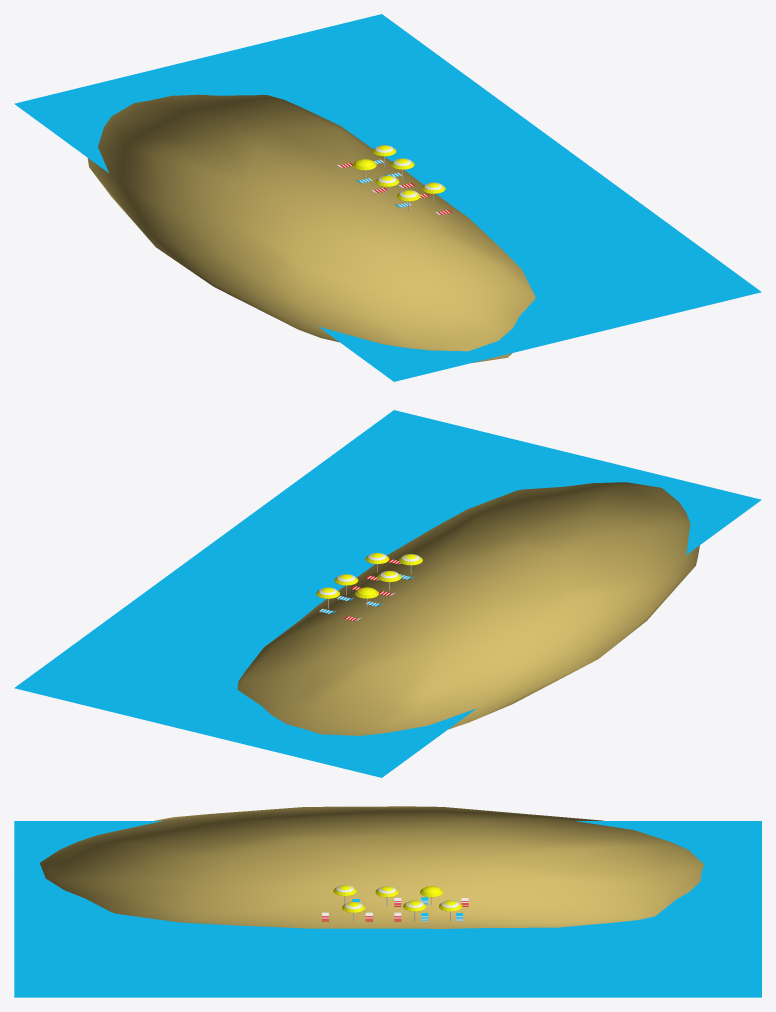
The model's file is Beach.obj.
The picture shows the model from 3 angles, top to bottom: view 1: azimuth 30°, elevation 25°; view 2: azimuth 150°, elevation 25°; view 3: azimuth 270°, elevation 25°; orthographic projection.
Visible parts, largest first — view 1: Plane006, Sphere002; view 2: Plane006, Sphere002; view 3: Plane006, Sphere002.
Part boxes in pixels (left/top/right/bottom): Plane006: left=14, top=14, right=761, bottom=381; Sphere002: left=87, top=94, right=535, bottom=362; Plane006: left=14, top=410, right=761, bottom=777; Sphere002: left=237, top=482, right=699, bottom=735; Plane006: left=14, top=821, right=761, bottom=997; Sphere002: left=40, top=806, right=704, bottom=928.
Size of the model in its own units: 2670446 by 217107 by 4340449.
